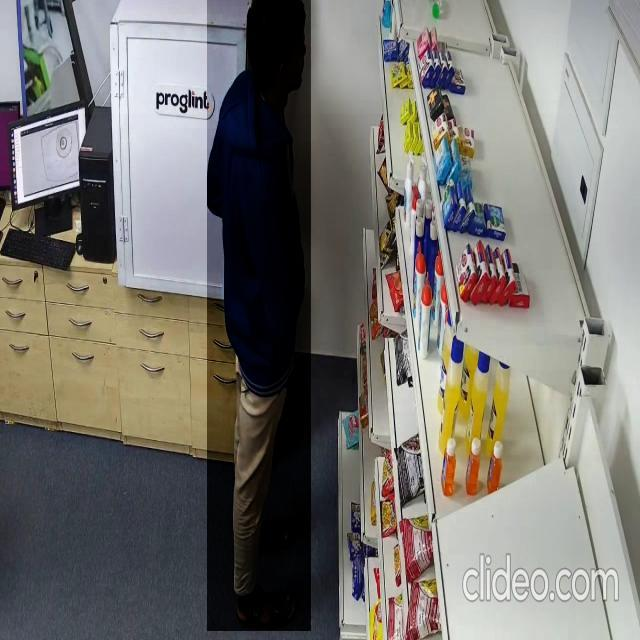Shoplifting: (208, 0, 312, 631)
